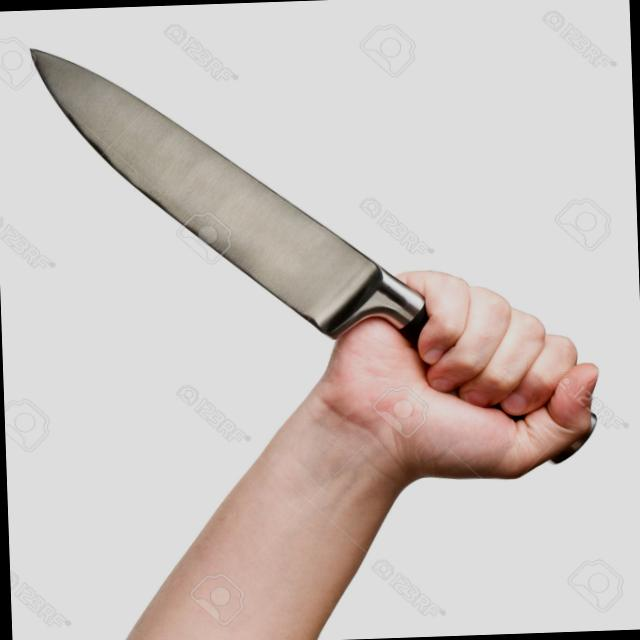knife: (16, 26, 544, 430)
